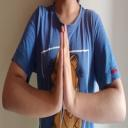hand: (52, 25, 64, 115), (65, 23, 75, 115)
